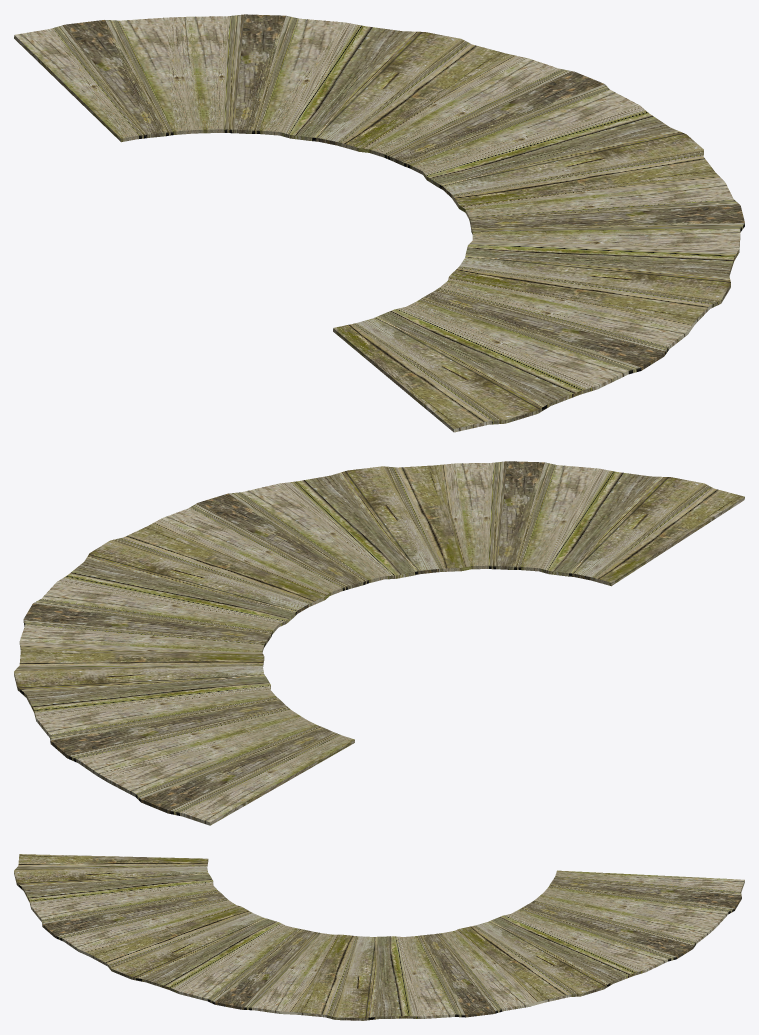
The model's file is Col-R-4.fbx.
3 views of the same model, one above another, from view 1: azimuth 30°, elevation 25°; view 2: azimuth 150°, elevation 25°; view 3: azimuth 270°, elevation 25° (orthographic). The views are drawn at different scales.
Parts seen in each view (by area): view 1: Ramp__004; view 2: Ramp__004; view 3: Ramp__004.
Boxes of the visible parts, x1=… form: Ramp__004: x1=14, y1=14, x2=744, y2=432; Ramp__004: x1=14, y1=461, x2=744, y2=825; Ramp__004: x1=14, y1=854, x2=744, y2=1020.
Bounding box in the file's own units: 410 × 3 × 771.
